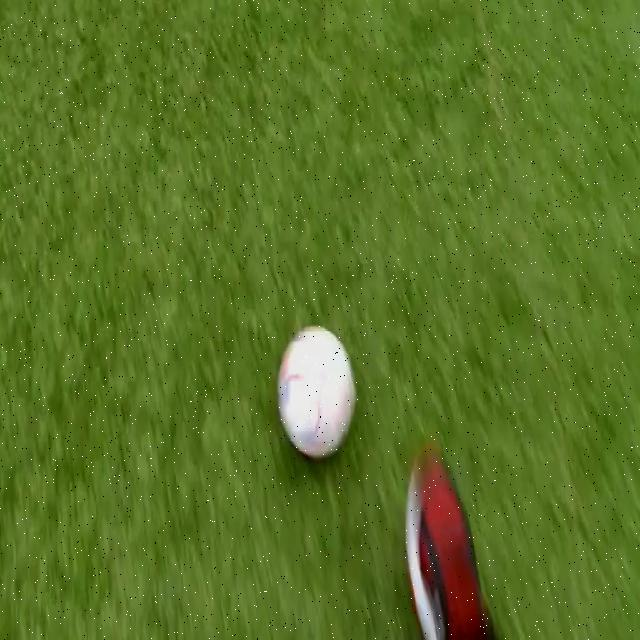ball: (277, 326, 355, 459)
